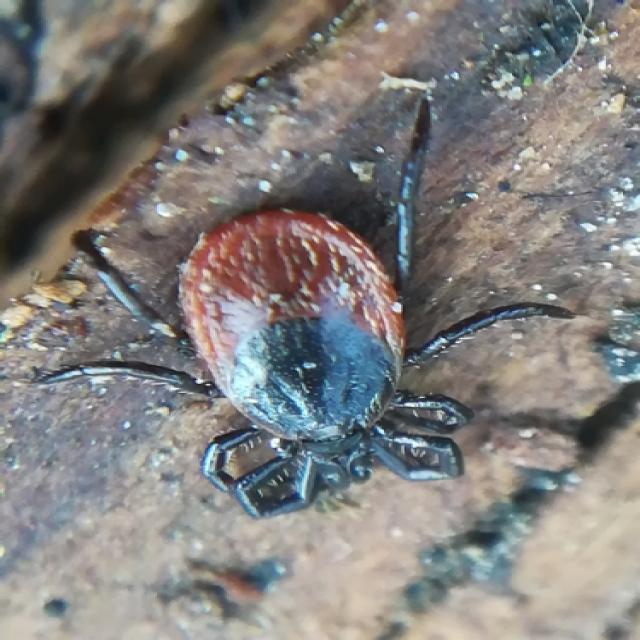Ixodes Ricinus-F: (36, 108, 575, 519)
